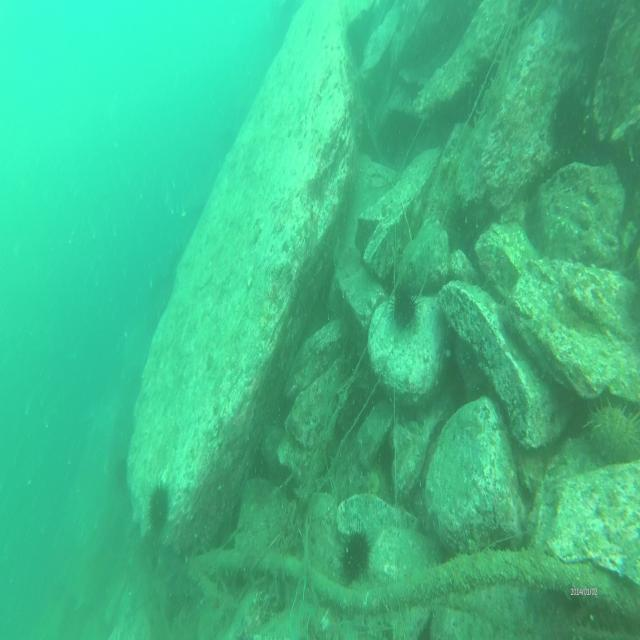echinus: (549, 80, 593, 174), (586, 390, 640, 465), (336, 524, 370, 588), (388, 287, 422, 339), (144, 479, 170, 544)
holothurian: (331, 467, 382, 504)
